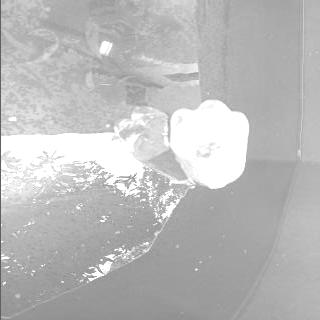bottle: (164, 99, 256, 191)
